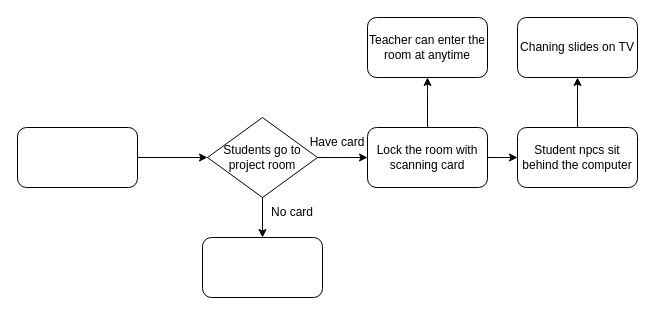
Image size: 655x315. Some labels were removed from this diagram. The shapes that lost their labels are listed below. From the top down, each one's box as (x1, y1, x2, y2) in pixels, then its label:
(16, 126, 138, 188): Project Time
(202, 236, 322, 298): Can't enter the room if door was locked
